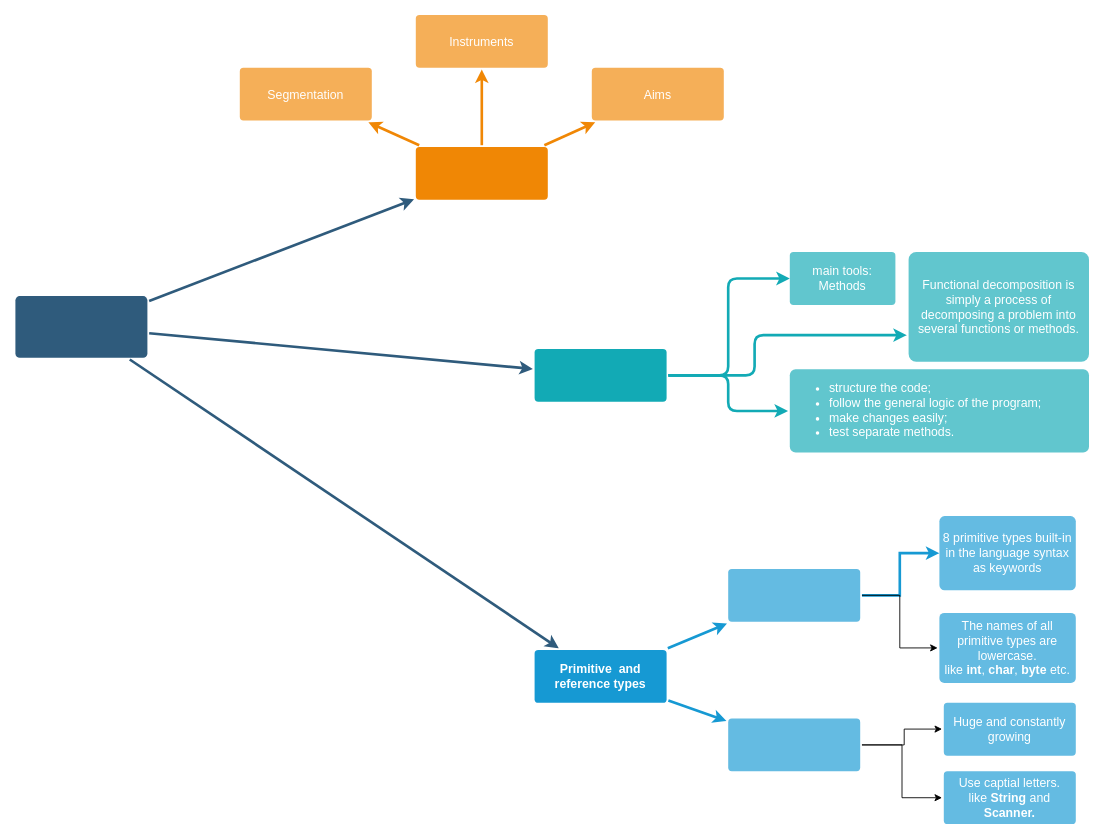
Some shapes in this 1104 by 840 pixel diagram are drawn without their labels. The shapes that lost their labels are listed below. From the top down, each one's box as (x1, y1, x2, y2) in pixels, then its label:
(415, 147, 547, 199): Marketing
(15, 296, 147, 357): JBD_KeyTheory
(534, 348, 666, 401): Functional decomposition
(728, 568, 860, 621): Primitive types
(728, 718, 860, 771): Reference types
